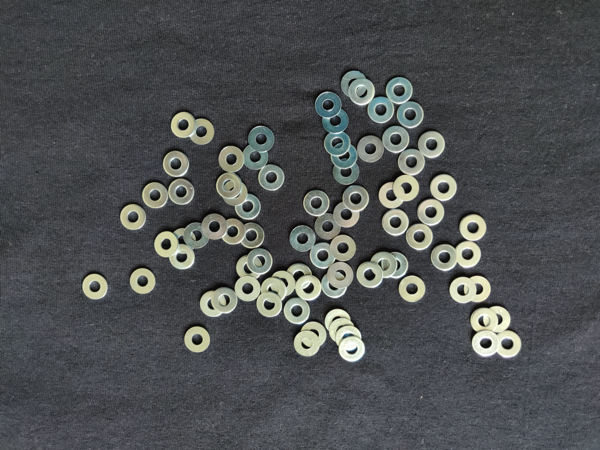circle: (181, 325, 214, 355), (79, 272, 109, 302), (120, 203, 148, 235), (397, 276, 427, 305), (355, 134, 385, 163), (166, 178, 197, 206), (141, 183, 170, 212), (188, 118, 218, 146), (321, 271, 349, 301), (127, 267, 158, 294), (153, 229, 180, 260), (473, 328, 500, 359), (212, 285, 240, 314), (329, 235, 358, 263), (333, 201, 362, 229), (333, 158, 362, 186), (398, 100, 426, 129), (286, 262, 313, 292), (355, 263, 385, 290), (383, 251, 410, 281), (458, 213, 488, 240), (170, 110, 198, 138), (241, 143, 269, 171), (234, 193, 262, 221), (342, 184, 370, 212), (340, 70, 368, 98), (386, 76, 414, 104), (382, 127, 410, 155), (419, 130, 447, 158), (398, 148, 426, 176), (406, 223, 434, 251), (169, 242, 196, 271), (326, 308, 355, 335), (313, 214, 342, 241), (330, 143, 359, 170), (379, 182, 406, 211), (431, 244, 458, 273), (453, 241, 482, 268), (484, 305, 511, 334), (496, 330, 523, 359), (314, 92, 345, 117), (163, 150, 190, 178), (183, 222, 210, 250), (238, 221, 266, 248), (198, 291, 226, 318), (261, 277, 288, 305), (218, 146, 245, 174), (247, 125, 275, 152), (258, 164, 285, 192), (288, 225, 316, 252), (309, 242, 337, 269), (348, 78, 375, 106), (449, 277, 477, 304), (464, 275, 492, 302), (321, 108, 350, 134), (301, 320, 326, 350), (336, 327, 366, 352), (170, 226, 197, 253), (293, 332, 320, 359), (382, 209, 409, 236), (432, 175, 459, 202), (234, 276, 262, 302), (328, 262, 354, 290), (370, 252, 396, 280), (367, 98, 395, 124), (471, 307, 499, 333), (201, 213, 227, 240), (220, 218, 246, 245), (235, 256, 262, 282), (296, 276, 323, 302), (302, 190, 329, 216), (420, 200, 446, 227), (339, 338, 367, 363), (324, 129, 352, 154), (392, 177, 420, 202), (247, 248, 273, 274), (270, 271, 296, 297), (284, 298, 310, 324), (216, 174, 242, 199), (223, 181, 249, 206), (328, 318, 355, 342), (257, 294, 283, 318)
